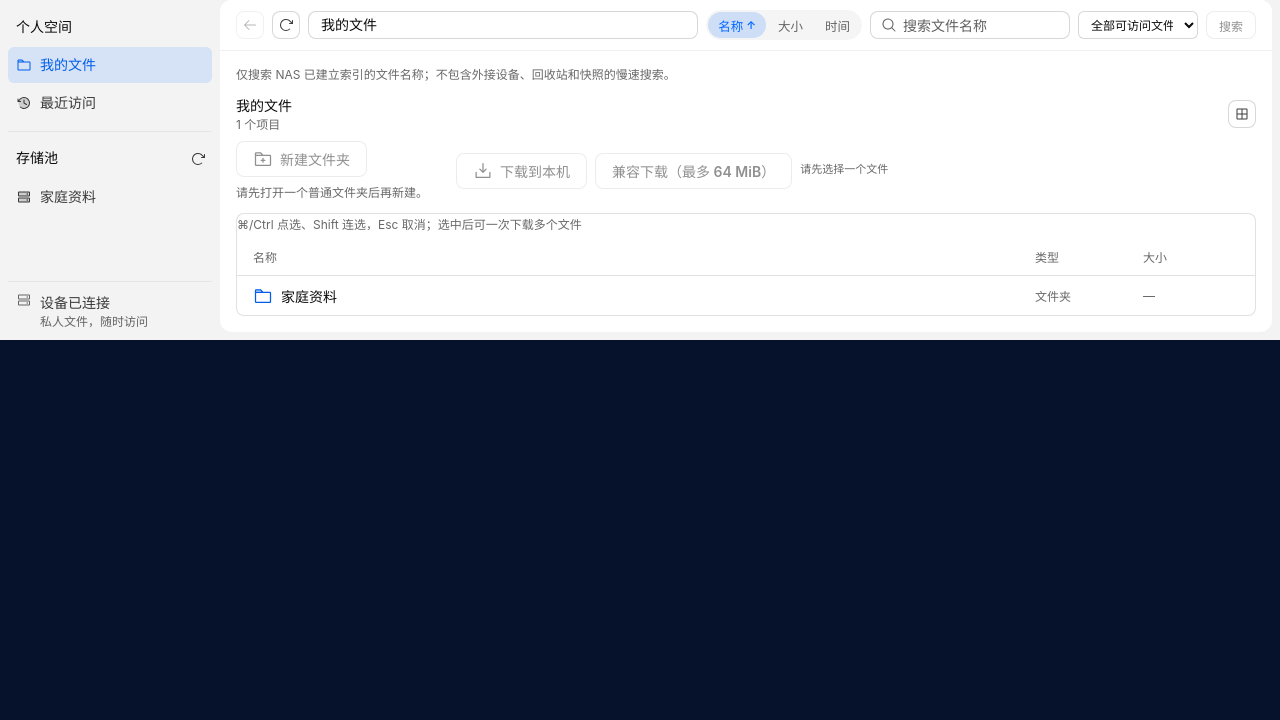
Scenario: rejects late search results after query changes
Click the button named "家庭资料文件夹" at (309, 296), box [237,275,1255,315]
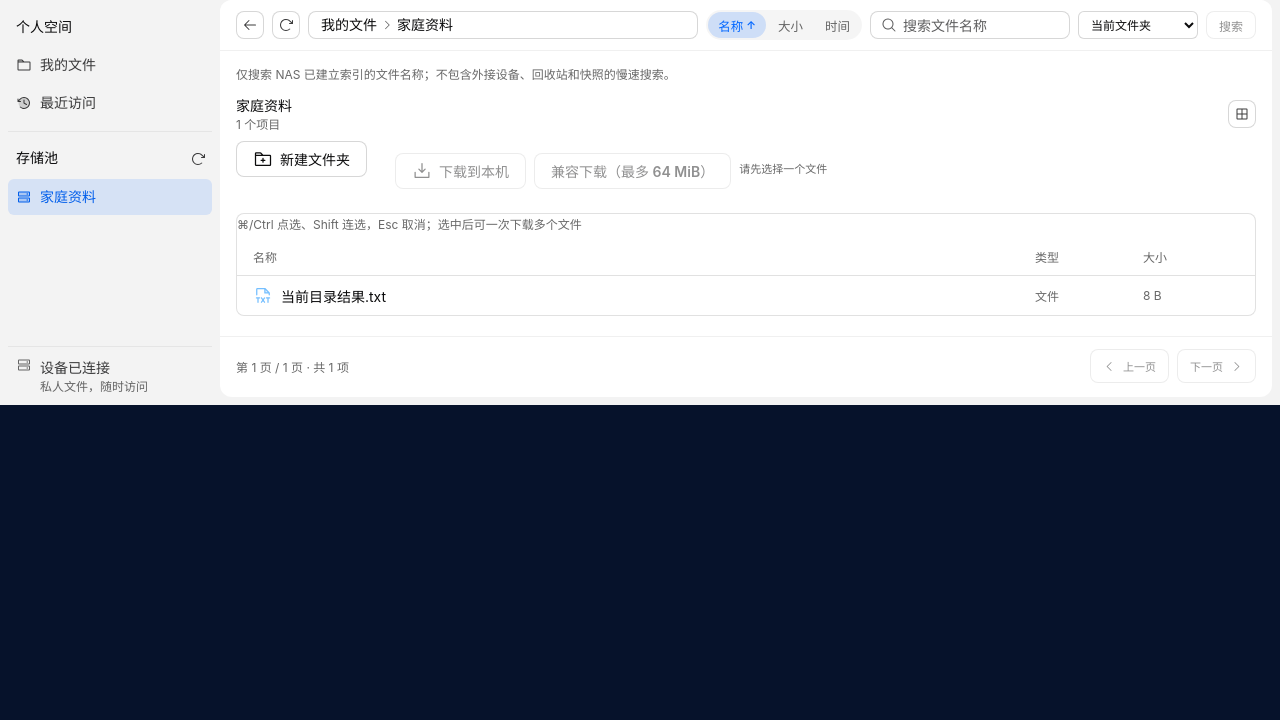
Now the text "当前目录结果.txt" is shown, box [253,286,386,306]
Type "旧查询" into the field labelled "搜索文件名称" at (981, 25), box [903,12,1059,38]
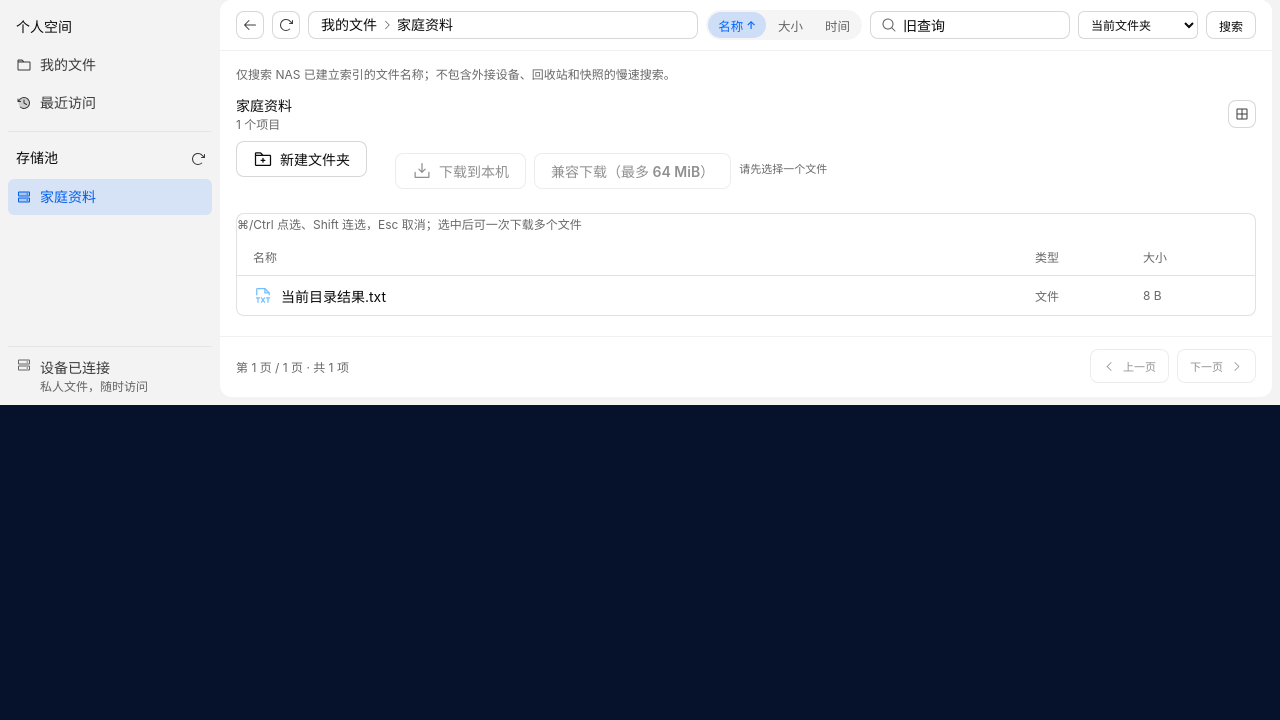
Click the button "搜索" at (1231, 25), box [1206,11,1256,39]
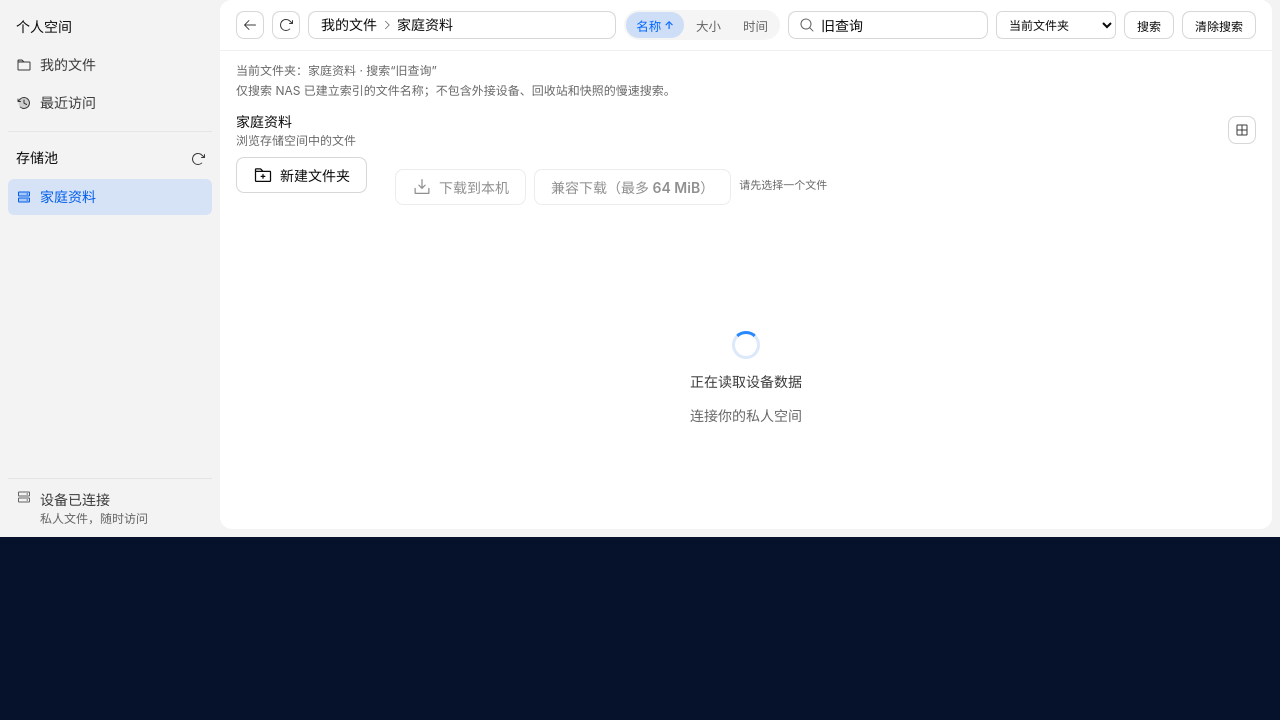
Replace the text in the field named "搜索文件名称" with "新查询" at (899, 25), box [821,12,977,38]
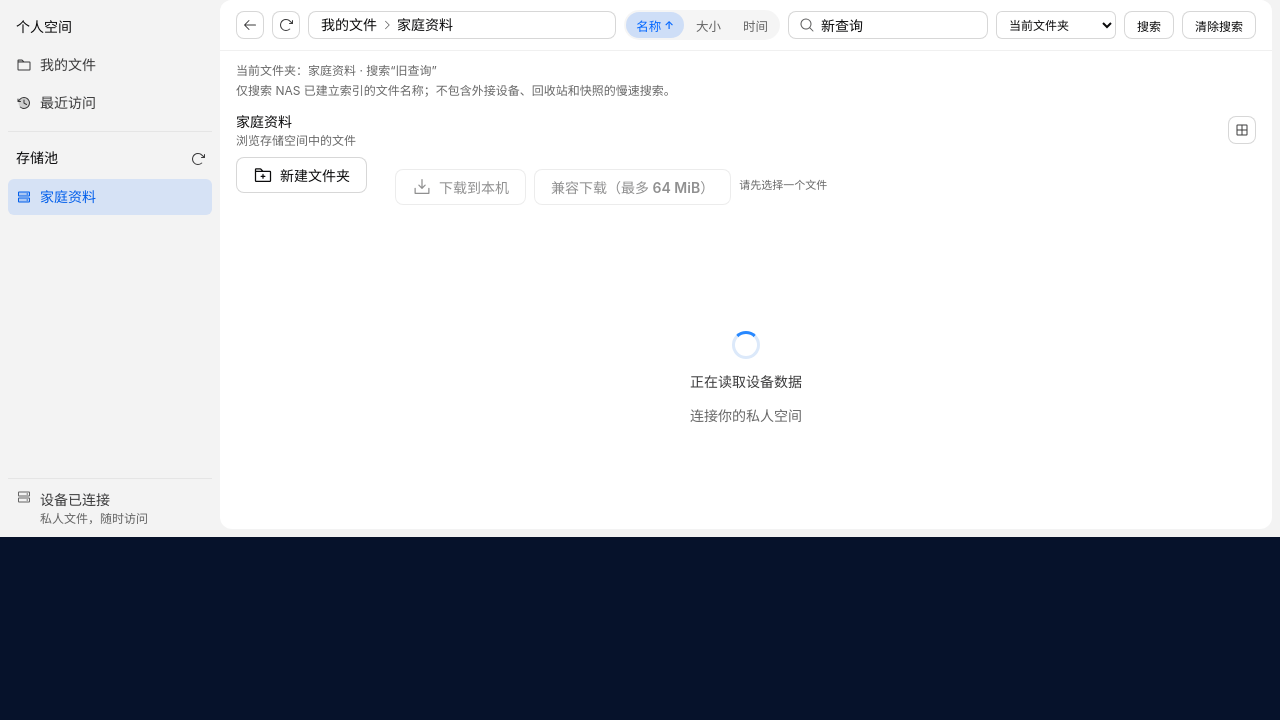
Click the button "搜索" at (1149, 25), box [1124,11,1174,39]
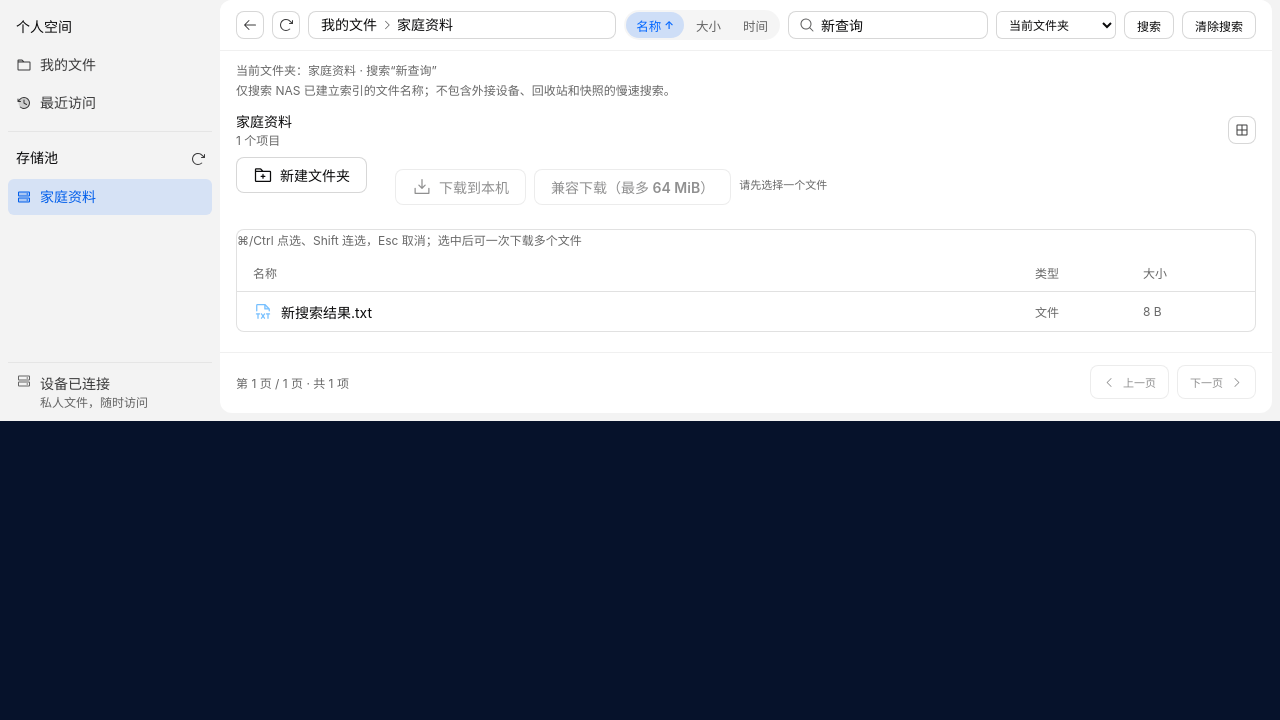
Now the text "新搜索结果.txt" is shown, box [253,302,372,322]
